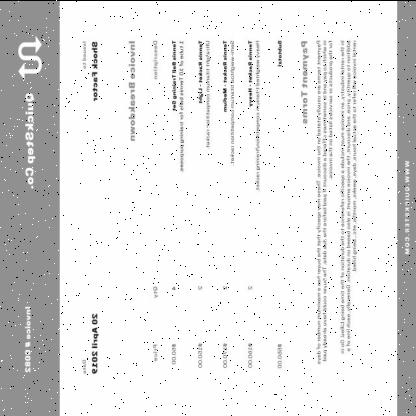Paragraph: (298, 36, 360, 366), (272, 36, 286, 370), (80, 306, 102, 376), (22, 88, 37, 190), (79, 37, 100, 103), (126, 36, 138, 142), (402, 158, 412, 256), (22, 302, 34, 375)
Table: (148, 34, 265, 374)
